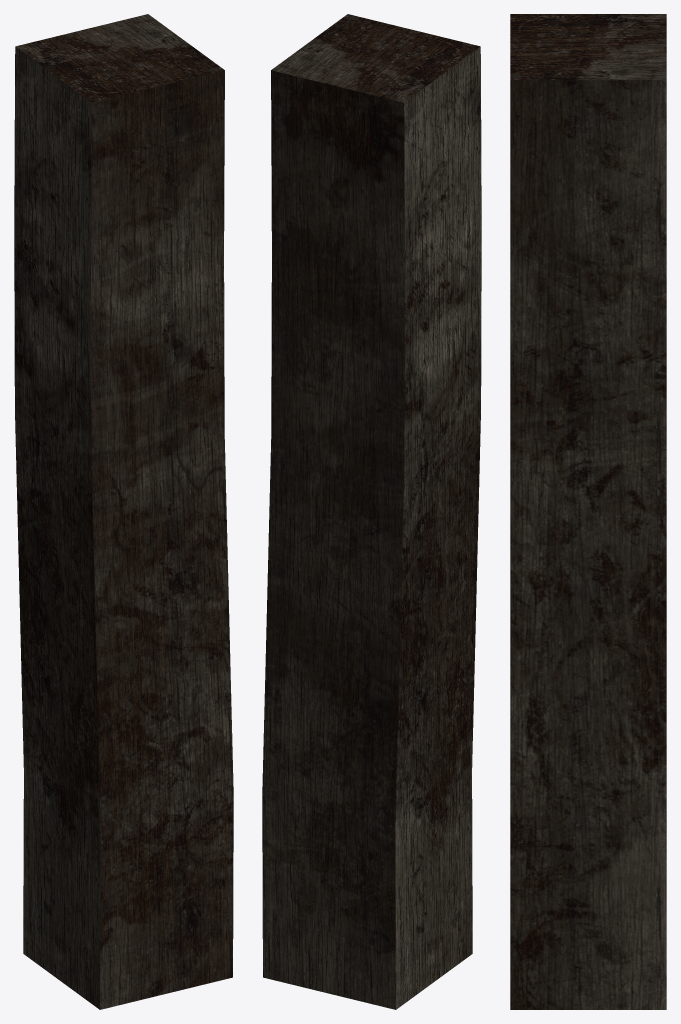
File: WoodColumn.fbx
3 views of the same model, side by side, from view 1: azimuth 30°, elevation 25°; view 2: azimuth 150°, elevation 25°; view 3: azimuth 270°, elevation 25° (orthographic).
Parts seen in each view (by area): view 1: Wood Column; view 2: Wood Column; view 3: Wood Column.
Part boxes in pixels (x1,y1,x2,y2): Wood Column: [14, 14, 233, 1009]; Wood Column: [262, 14, 481, 1009]; Wood Column: [510, 14, 666, 1009].
Size of the model in its own units: 36.29 by 221 by 33.83.
